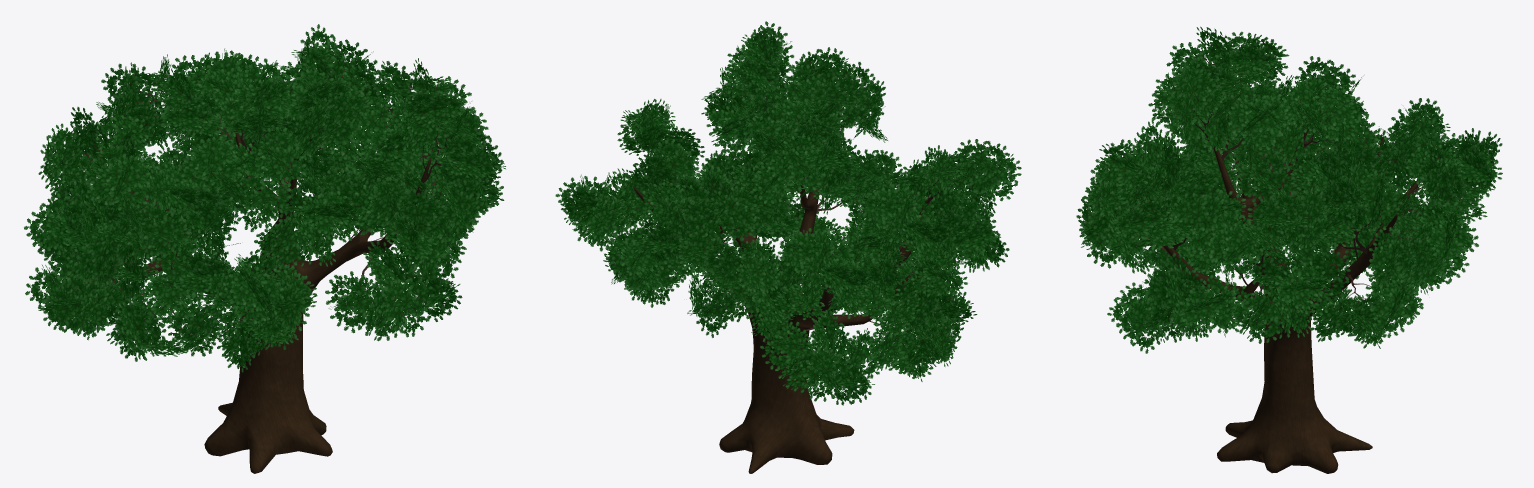
Rendered from tree_oak_2.glb.
The picture shows the model from 3 angles, left to right: view 1: azimuth 30°, elevation 25°; view 2: azimuth 150°, elevation 25°; view 3: azimuth 270°, elevation 25°; orthographic projection. The views are drawn at different scales.
Parts seen in each view (by area): view 1: Cone, Plane.098, Plane.059, Plane.070, Plane.116, Plane.122, Plane.102, Plane.110, Plane.104, Plane.094, Plane.072, Plane.140 (+22 smaller); view 2: Cone, Plane.066, Plane.068, Plane.116, Plane.140, Plane.078, Plane.082, Plane.118, Plane.104, Plane.074, Plane.076, Plane.126 (+25 smaller); view 3: Cone, Plane.064, Plane.108, Plane.134, Plane.102, Plane.076, Plane.088, Plane.086, Plane.080, Plane.128, Plane.104, Plane.100 (+21 smaller).
Part boxes in pixels (<box>): Cone: <box>117,119,431,473</box>; Plane.098: <box>325,241,462,341</box>; Plane.059: <box>179,249,317,340</box>; Plane.070: <box>254,168,375,269</box>; Plane.116: <box>85,127,190,261</box>; Plane.122: <box>99,266,227,361</box>; Plane.102: <box>388,90,499,187</box>; Plane.110: <box>172,120,292,231</box>; Plane.104: <box>226,78,320,187</box>; Plane.094: <box>365,177,473,267</box>; Plane.072: <box>62,193,159,301</box>; Plane.140: <box>38,107,148,200</box>; Cone: <box>632,108,935,473</box>; Plane.066: <box>760,310,880,405</box>; Plane.068: <box>620,196,734,288</box>; Plane.116: <box>909,139,1021,213</box>; Plane.140: <box>777,228,872,316</box>; Plane.078: <box>678,219,782,297</box>; Plane.082: <box>752,128,859,207</box>; Plane.118: <box>860,184,953,269</box>; Plane.104: <box>771,74,887,152</box>; Plane.074: <box>868,308,964,381</box>; Plane.076: <box>555,172,636,251</box>; Plane.126: <box>704,166,798,242</box>; Cone: <box>1147,128,1439,473</box>; Plane.064: <box>1231,237,1350,343</box>; Plane.108: <box>1220,75,1312,202</box>; Plane.134: <box>1210,188,1330,279</box>; Plane.102: <box>1085,119,1191,220</box>; Plane.076: <box>1369,203,1472,288</box>; Plane.088: <box>1144,253,1254,341</box>; Plane.086: <box>1310,265,1423,348</box>; Plane.080: <box>1080,189,1193,274</box>; Plane.128: <box>1284,170,1416,259</box>; Plane.104: <box>1164,54,1291,153</box>; Plane.100: <box>1135,150,1227,251</box>.
Bounding box in the file's own units: 2.64 × 2.39 × 2.54.
Materials: 5 (5 with a texture image).
